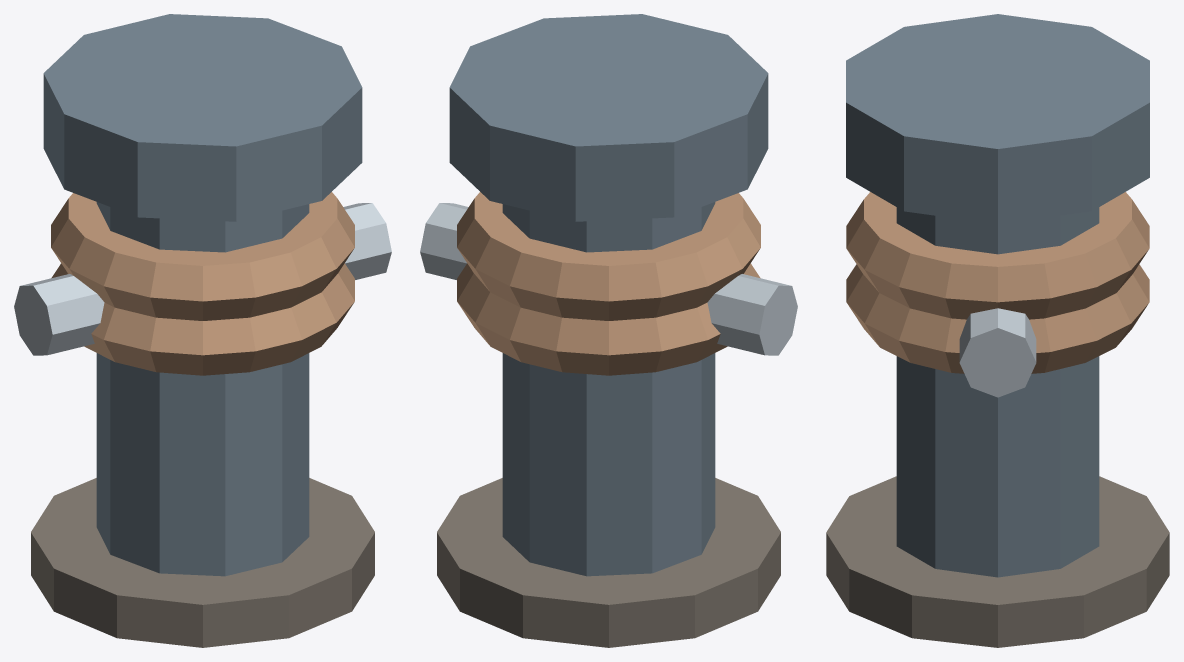
Rendered from bolardo.glb.
The picture shows the model from 3 angles, left to right: view 1: azimuth 30°, elevation 25°; view 2: azimuth 150°, elevation 25°; view 3: azimuth 270°, elevation 25°; orthographic projection.
Parts seen in each view (by area): view 1: bolardo; view 2: bolardo; view 3: bolardo.
Boxes of the visible parts, left/top/right/bottom form: bolardo: left=14, top=14, right=391, bottom=647; bolardo: left=420, top=14, right=797, bottom=647; bolardo: left=826, top=14, right=1169, bottom=647.
Bounding box in the file's own units: 0.66 × 0.92 × 0.58.
